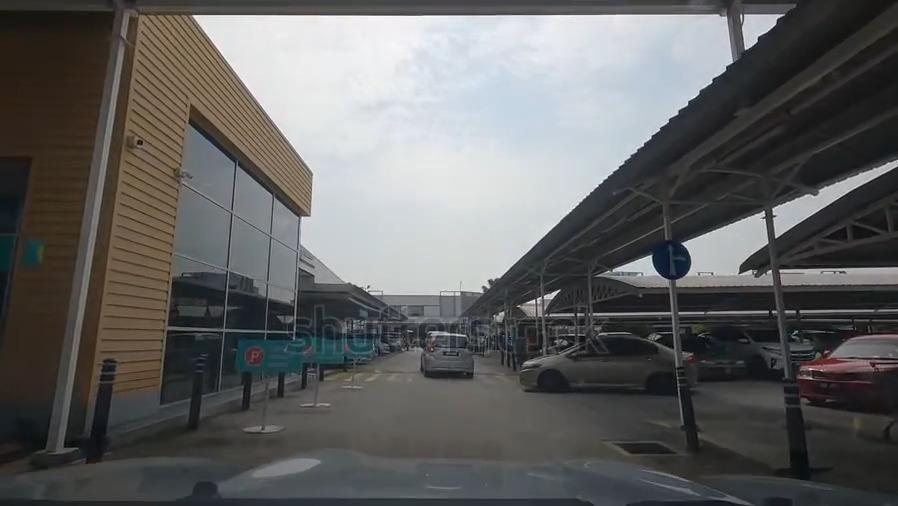car: (517, 334, 699, 390), (801, 331, 898, 407), (710, 323, 815, 372), (648, 330, 744, 378), (421, 331, 479, 377), (791, 326, 843, 351)
manhole: (605, 435, 683, 459)
pedestrian: (317, 372, 531, 383)
